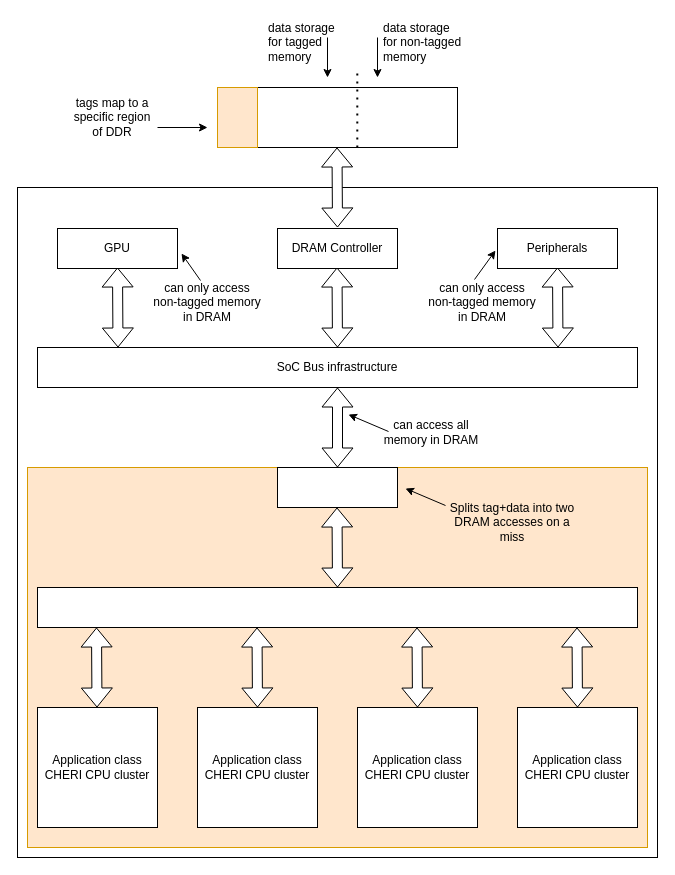
This 675x875 diagram has some shape labels left out. Each missing label, with the centre of its shape:
CHERI tag cache: (337,487)
data storage: (357,117)
Shared L3 cache: (337,607)
tag storage: (237,117)
